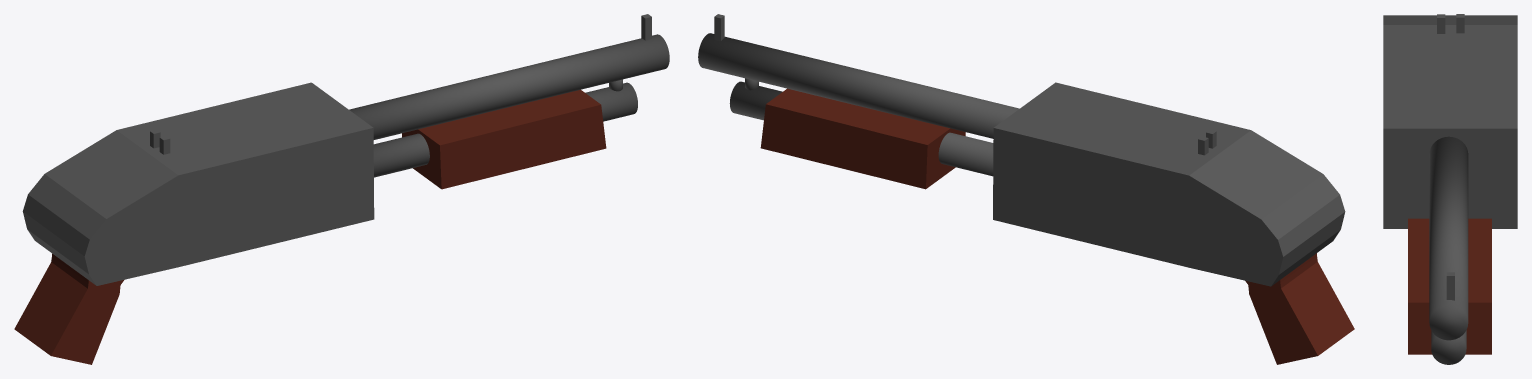
File: ShottyGun.fbx
The picture shows the model from 3 angles, left to right: view 1: azimuth 30°, elevation 25°; view 2: azimuth 150°, elevation 25°; view 3: azimuth 270°, elevation 25°; orthographic projection. The views are drawn at different scales.
Parts seen in each view (by area): view 1: Gun, Handle; view 2: Gun, Handle; view 3: Gun, Handle.
Boxes of the visible parts, bbox=[...] form: Gun: bbox=[14, 14, 669, 364]; Handle: bbox=[402, 89, 606, 189]; Gun: bbox=[698, 14, 1354, 364]; Handle: bbox=[760, 88, 965, 189]; Gun: bbox=[1383, 14, 1517, 364]; Handle: bbox=[1408, 218, 1491, 354].
Bounding box in the file's own units: 1200 × 356 × 205.
